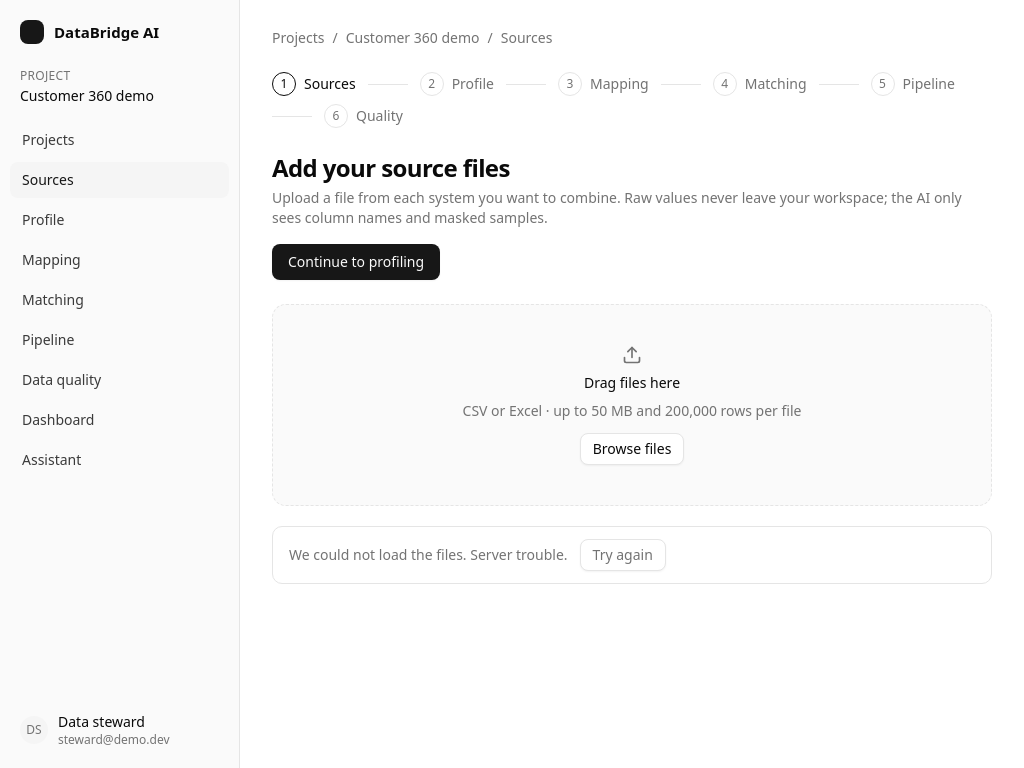
it: sources page › shows an error with a working retry
Expected: the text "We could not load the files. Server trouble." is shown, [289,545,568,565]
Click the button "Try again" at (623, 555), box [580,539,666,571]
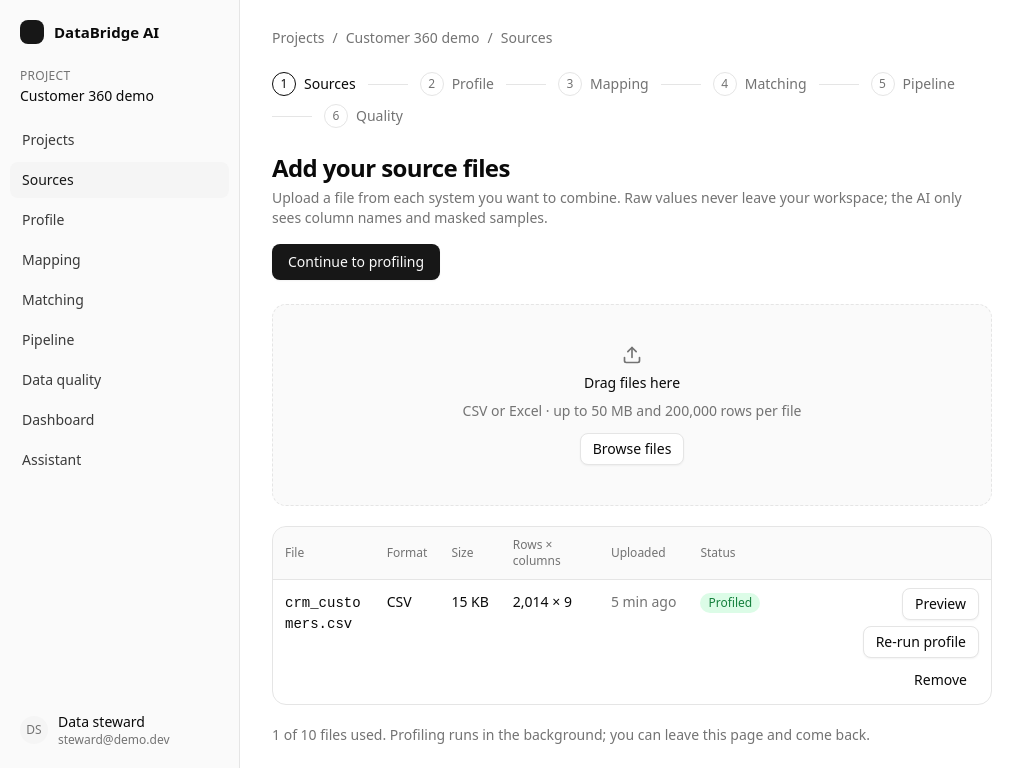
Expected: the text "crm_customers.csv" is shown, [285,595,361,632]
